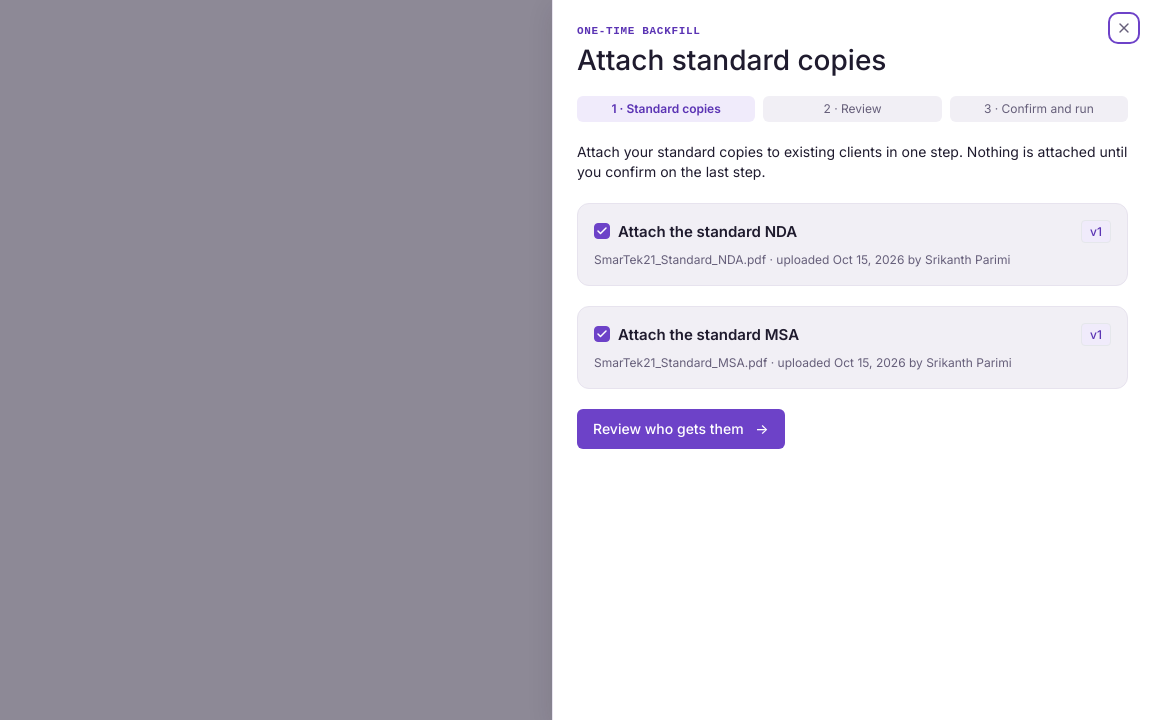
Test: steps 2 and 3 · dry run, confirm and run › a 422 shows the server's reason and refreshes the count to confirm; a retry reuses the same key
Click the button "Review who gets them →": {"x": 681, "y": 429} [577,409,785,449]
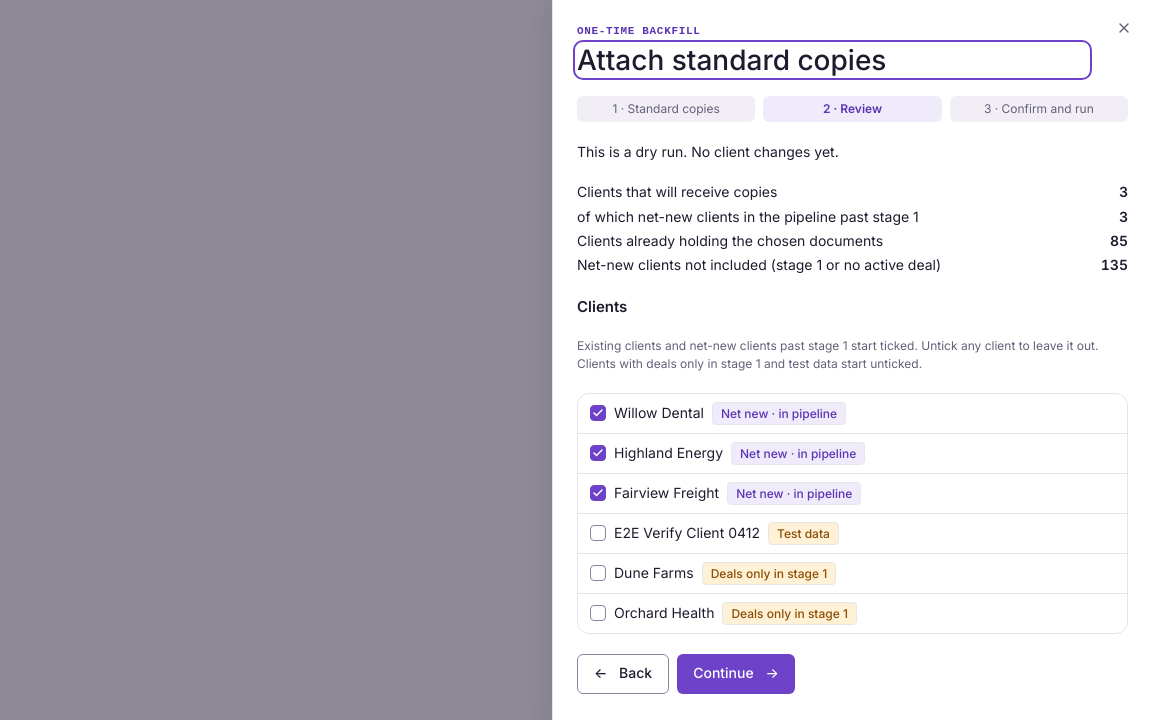
Check: the text "Willow Dental" is shown, box [614,403,704,423]
Click the button "Continue →": {"x": 736, "y": 674} [677,654,795,694]
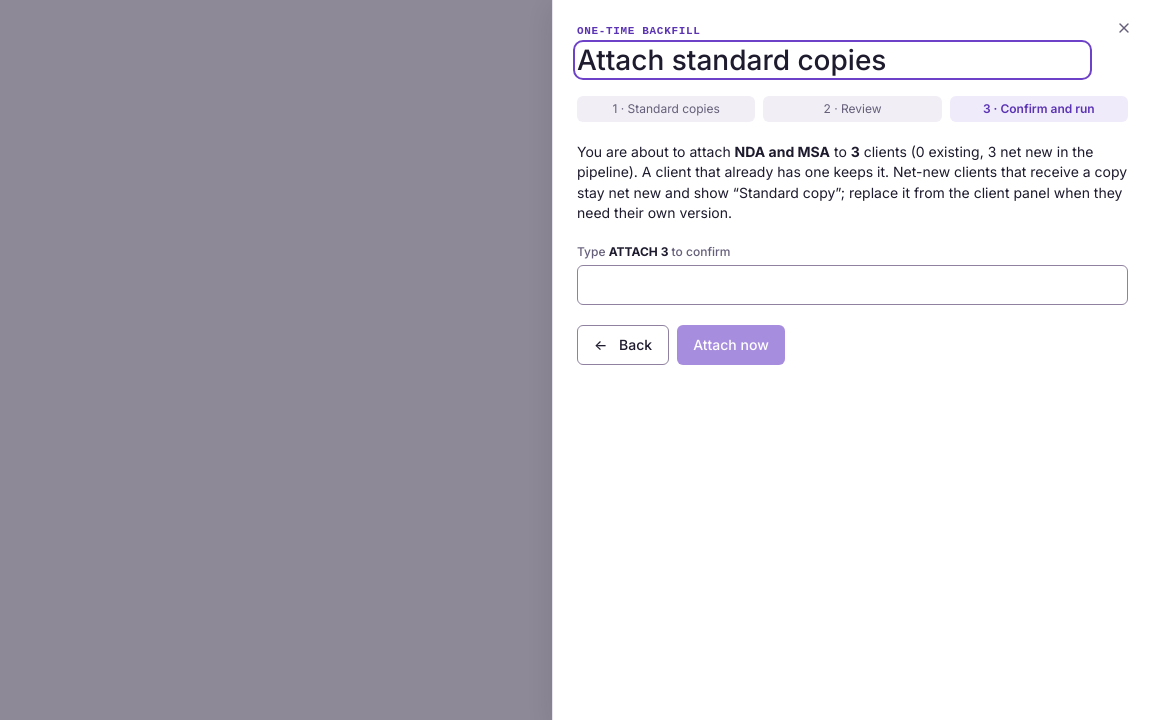
In the field labelled "Type ATTACH 3 to confirm": {"x": 852, "y": 285} [577,265,1128,305], type "ATTACH 3"
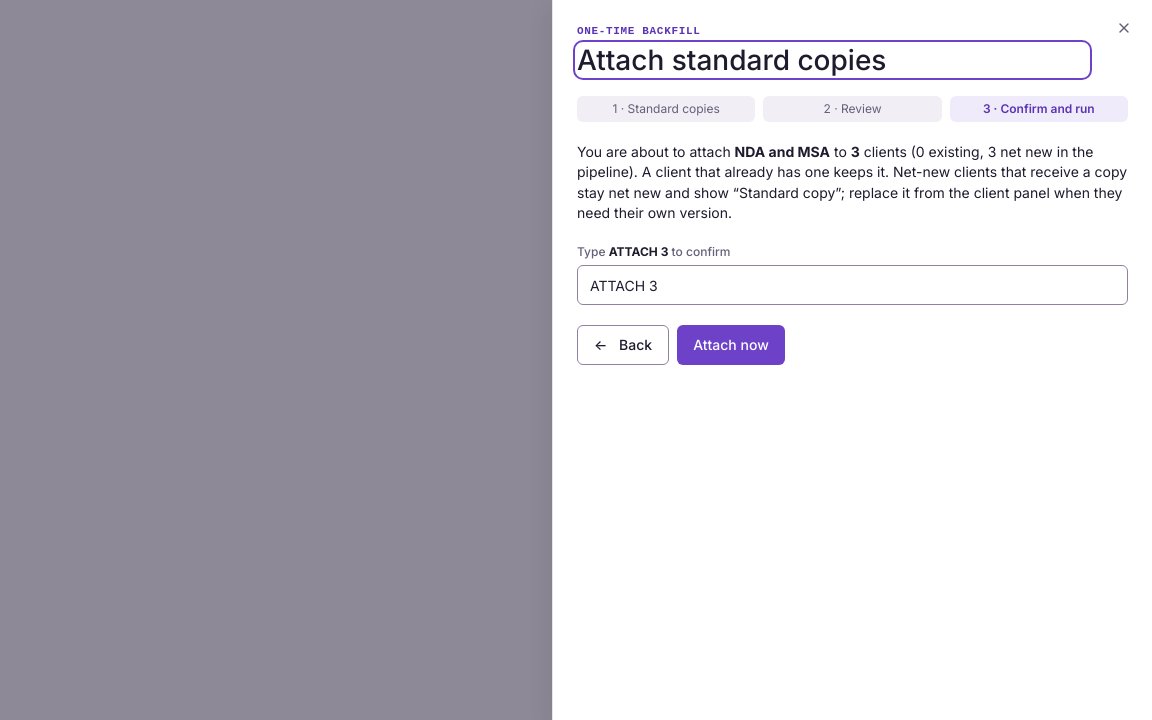
Click the button "Attach now": {"x": 731, "y": 345} [677,325,785,365]
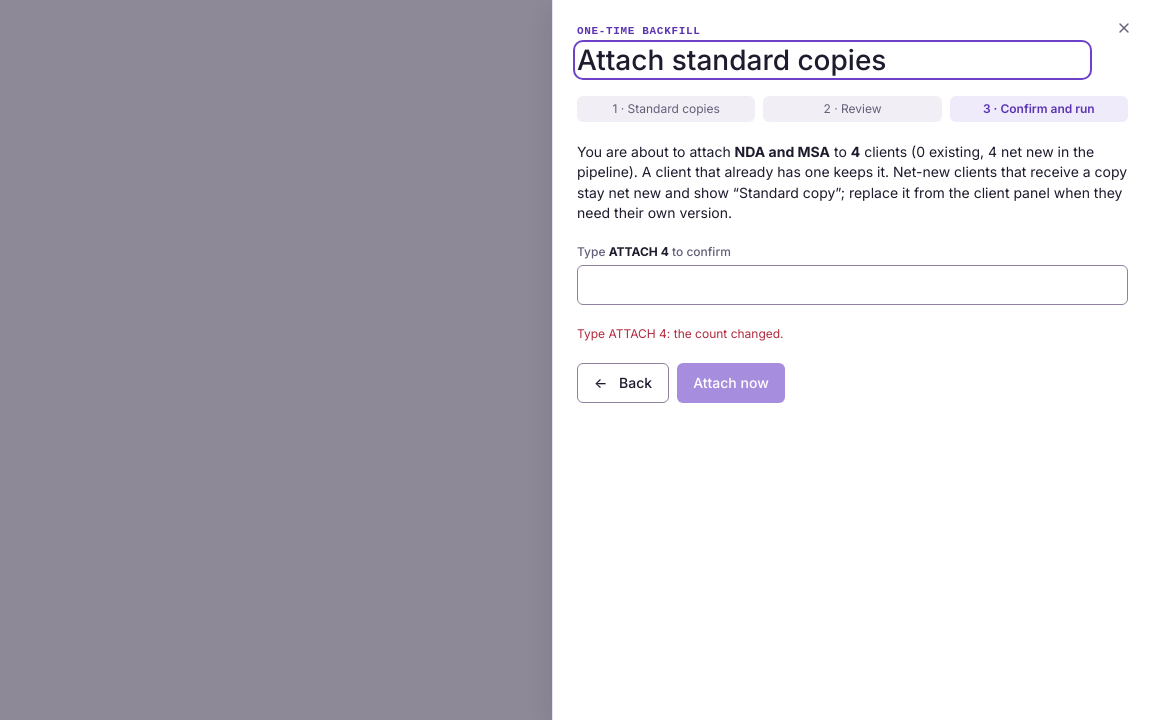
Check: the message reads "Type ATTACH 4: the count changed.", box [577,326,784,341]
Check: the field labelled "Type ATTACH 4 to confirm" is empty
In the field labelled "Type ATTACH 4 to confirm": {"x": 852, "y": 285} [577,265,1128,305], type "ATTACH 4"
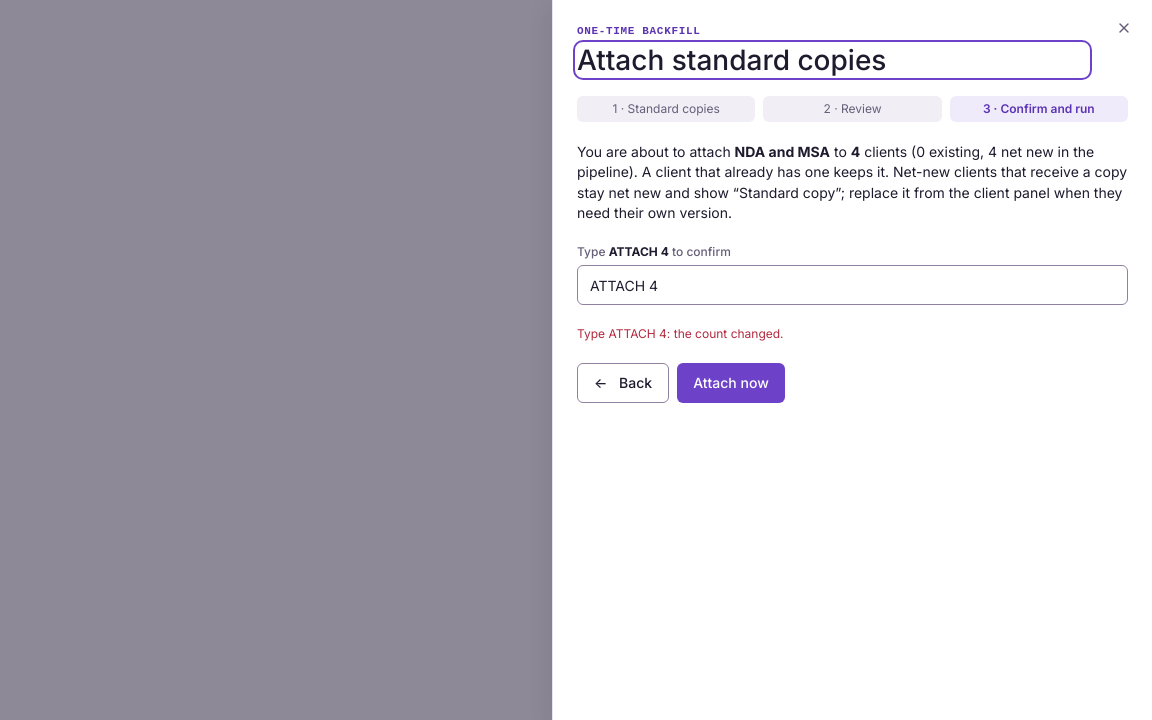
Click the button "Attach now": {"x": 731, "y": 383} [677,363,785,403]
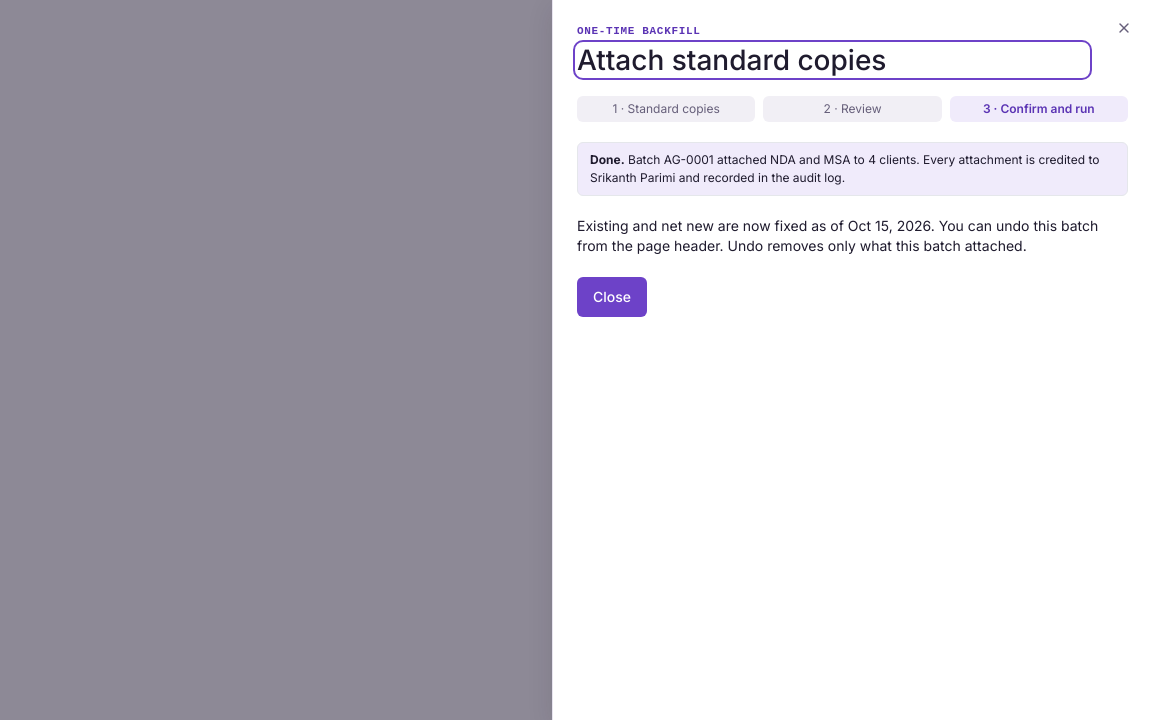
Check: the text "Batch AG-0001 attached NDA and MSA to 4 clients." is shown, box [628,152,920,167]
